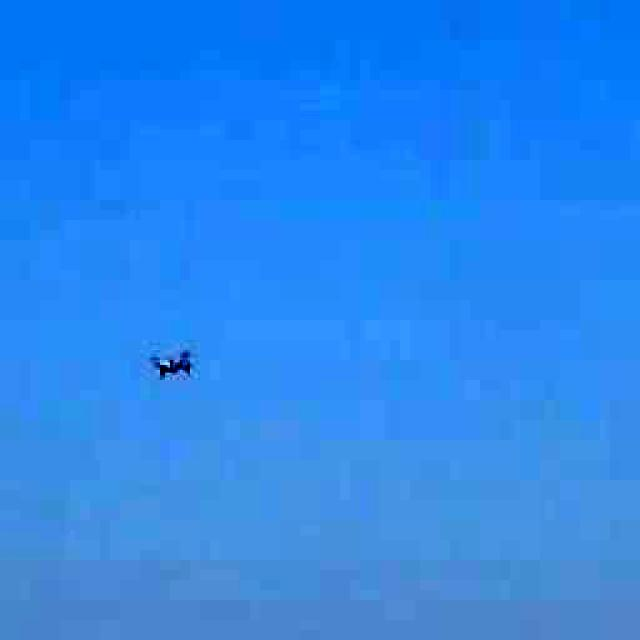bird: (134, 328, 214, 392)
